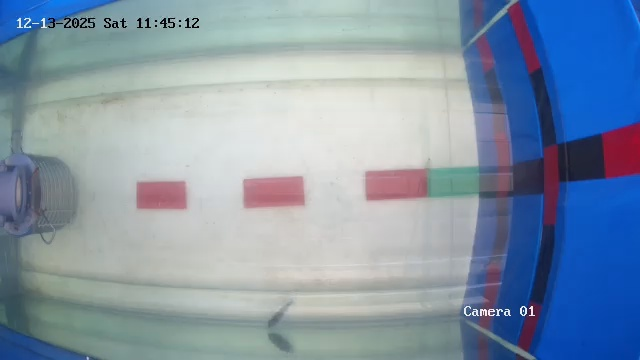fish: (265, 287, 296, 333)
